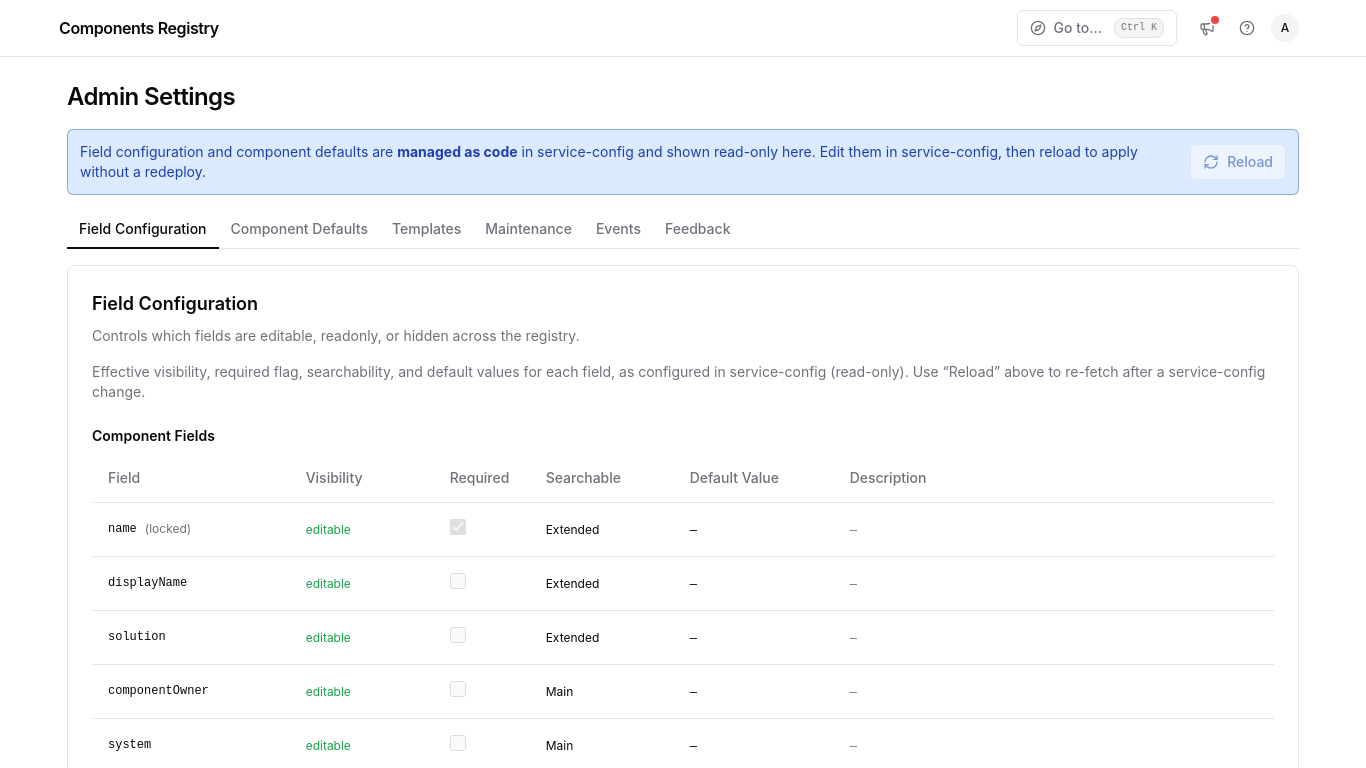
Test: AdminSettingsPage tabs › mounts MigrationPanel when the Maintenance tab is clicked
Click the tab "Maintenance" at (529, 230), box [473,211,584,249]
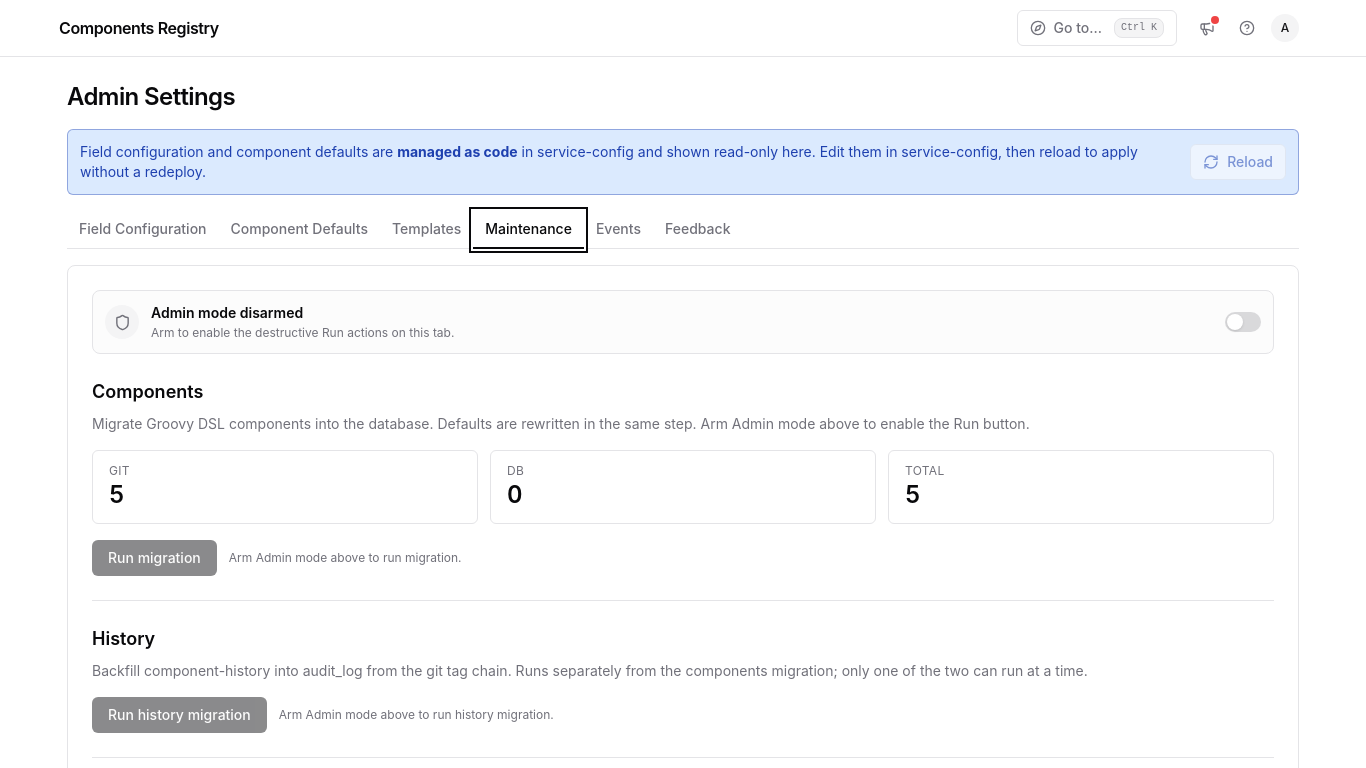
Now the button "Run migration" is shown, box [92,540,217,576]
